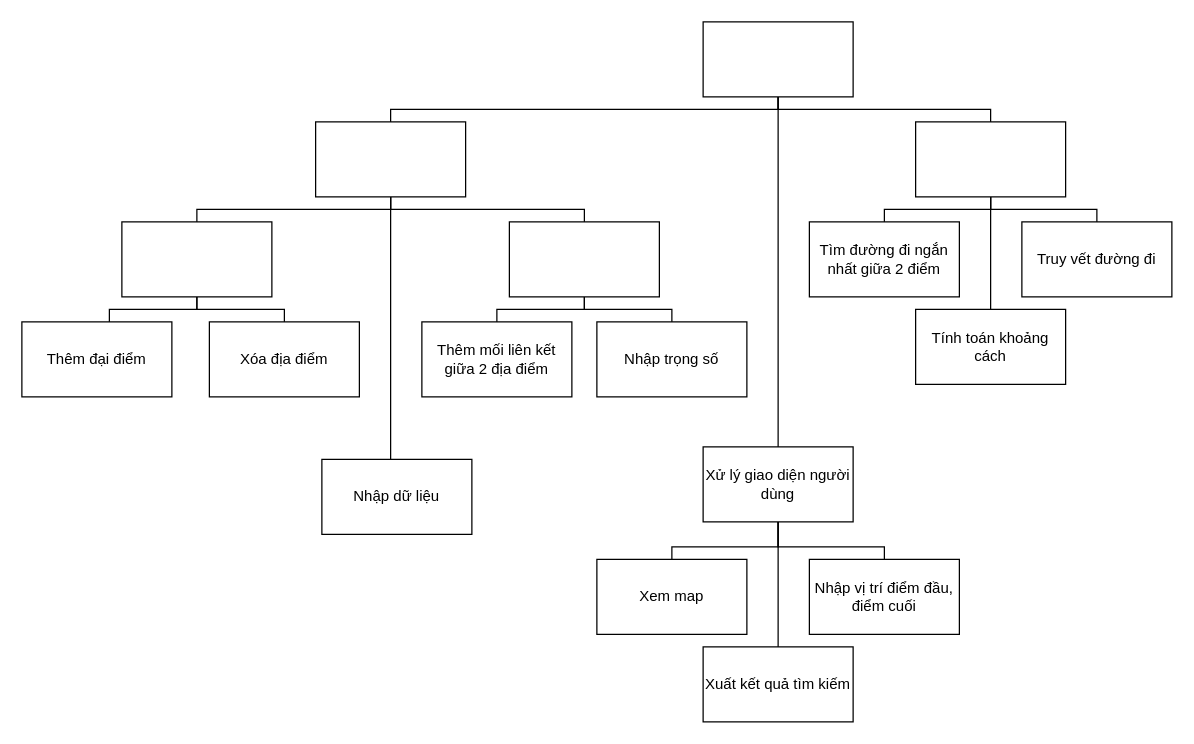
This 1194x744 diagram has some shape labels left out. Here are the shapes that lost their labels. From the top down, the centre of each, then its label:
At point (777, 59): "Hệ thống dẫn đường trường học".
At point (390, 159): "Quản lý dữ liệu bản đồ".
At point (990, 159): "Xử lý tìm đường".
At point (196, 259): "Quản lý danh sách địa điểm".
At point (583, 259): "Quản lý tuyến đường".
